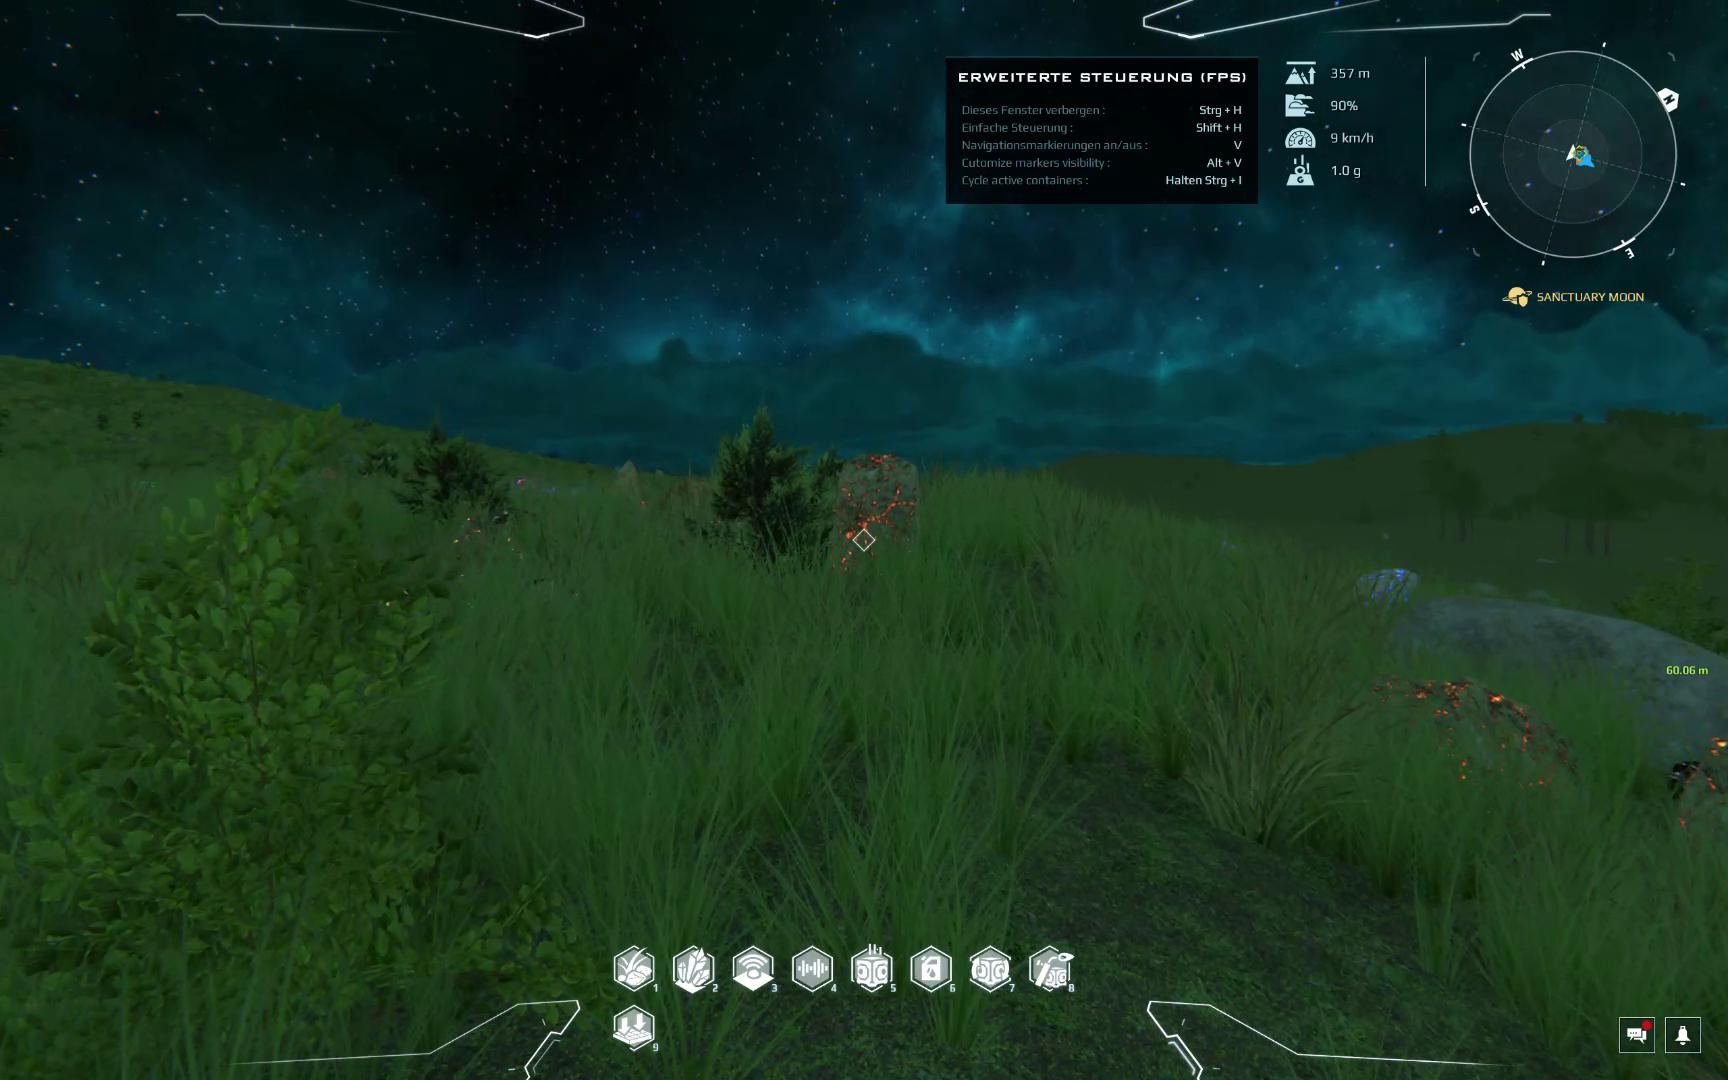Ore: (1341, 658, 1587, 817), (826, 449, 927, 576), (1648, 727, 1728, 866), (440, 506, 536, 572), (1339, 560, 1421, 625), (350, 572, 419, 626), (1653, 750, 1716, 808), (610, 463, 656, 524), (503, 468, 547, 496)
